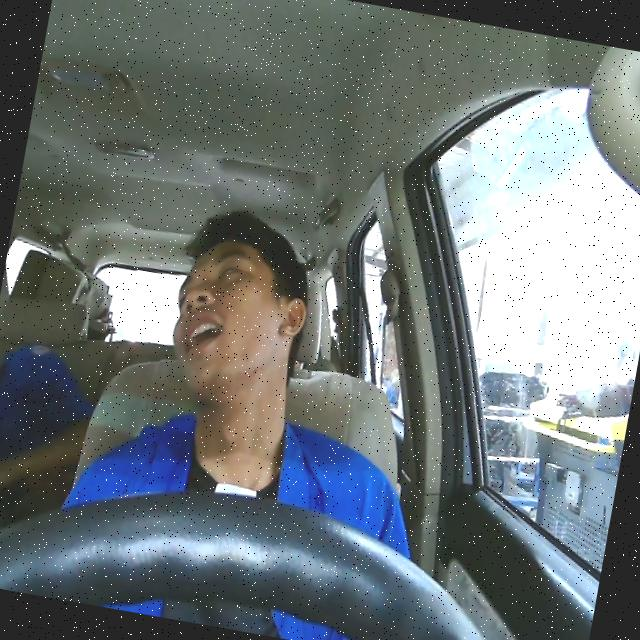yarning: (161, 231, 316, 411)
